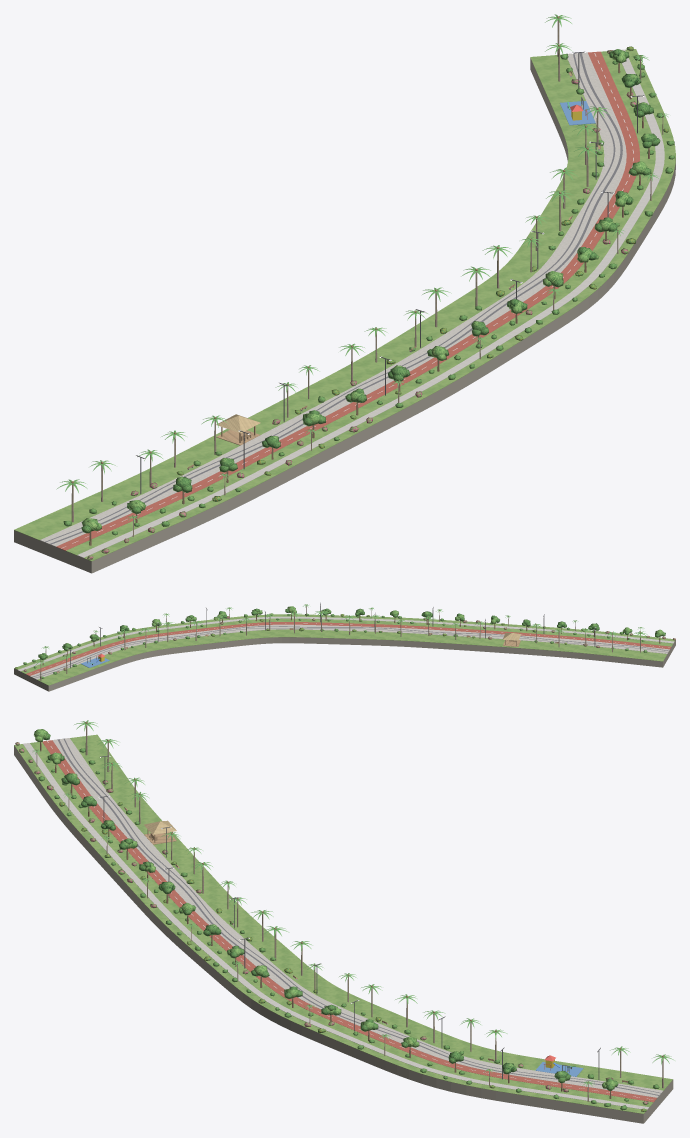
Rendered from parque_16.glb.
3 views of the same model, one above another, from view 1: azimuth 30°, elevation 25°; view 2: azimuth 150°, elevation 25°; view 3: azimuth 270°, elevation 25° (orthographic). The views are drawn at different scales.
Visible parts, largest first — view 1: parque_16; view 2: parque_16; view 3: parque_16.
Part boxes in pixels (x1=…): parque_16: x1=14, y1=49, x2=675, y2=573; parque_16: x1=14, y1=602, x2=675, y2=691; parque_16: x1=14, y1=734, x2=673, y2=1123.
Size of the model in its own units: 247 by 13.38 by 183.
27 materials, 14 textured.
